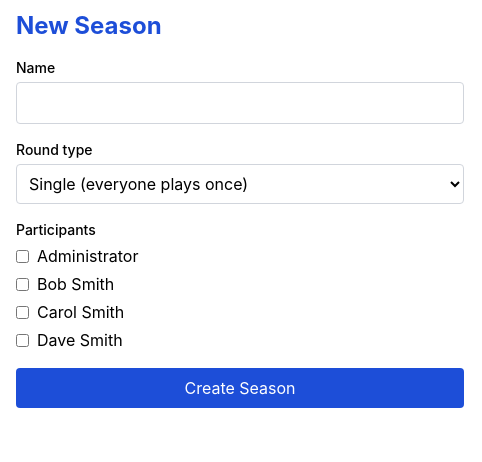
Test case: NewSeason › blocks submission with fewer than 2 participants
Expected: the checkbox labelled "Administrator" is shown, [16,250,29,262]
Type "Spring 2026" into the field labelled "Name" at (240, 103), box [16,82,464,124]
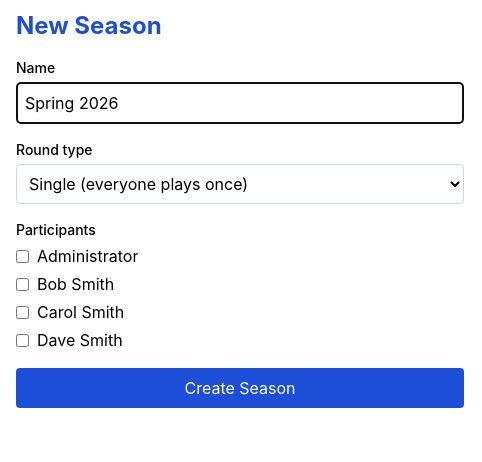
Click the checkbox labelled "Administrator" at (22, 256), box [16,250,29,262]
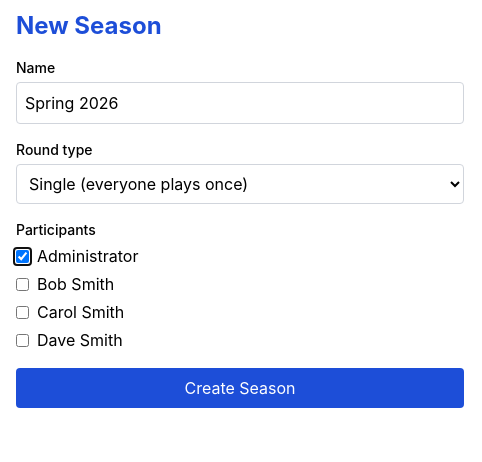
Click the button "Create Season" at (240, 388), box [16,368,464,408]
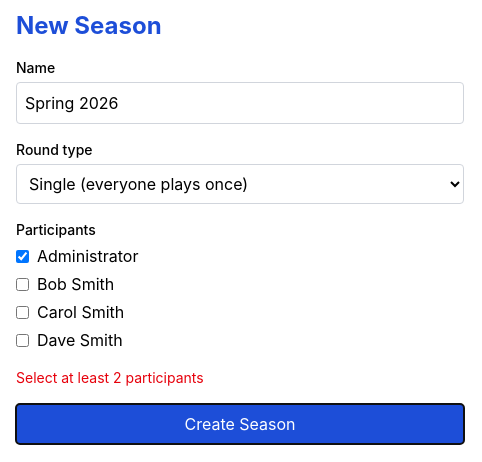
Result: the message reads "Select at least 2 participants" at [16,369,204,386]
